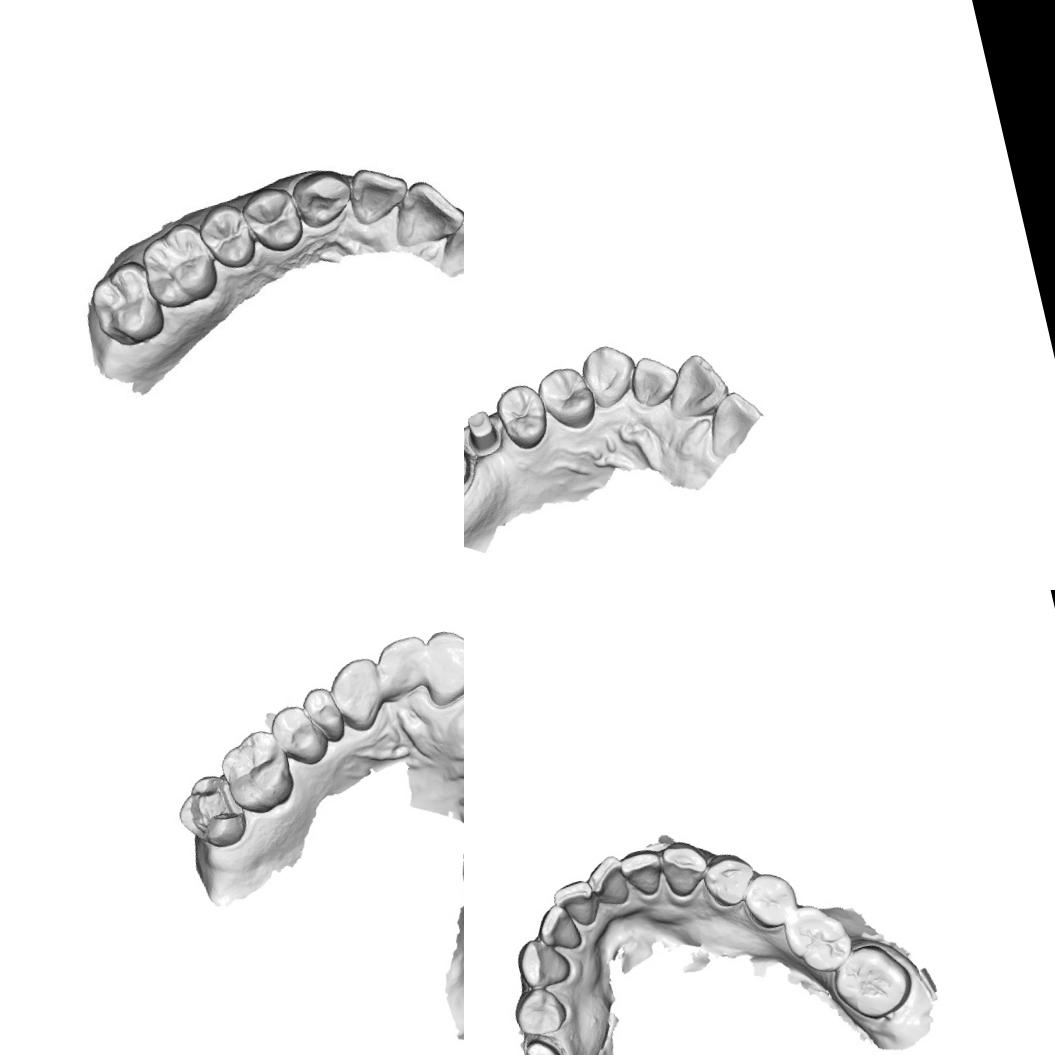abutment: (464, 405, 507, 460)
canine: (322, 652, 392, 740), (574, 339, 644, 414), (288, 163, 358, 232), (511, 931, 575, 993), (656, 835, 714, 901)
crown: (464, 434, 483, 507), (521, 1033, 568, 1055)
incisor: (382, 171, 464, 252), (658, 346, 734, 422), (698, 385, 772, 460), (343, 156, 417, 228), (371, 631, 434, 700), (415, 622, 464, 709), (622, 348, 686, 414), (532, 899, 586, 956), (581, 851, 632, 911), (549, 877, 602, 933), (617, 845, 668, 901), (431, 212, 464, 283)
molar: (212, 722, 302, 822), (824, 936, 920, 1028), (132, 216, 223, 313), (82, 256, 170, 355), (168, 766, 253, 857), (777, 894, 859, 981)
premolar: (238, 180, 310, 260), (534, 360, 601, 438), (266, 697, 334, 773), (488, 378, 554, 456), (195, 202, 260, 274), (738, 866, 804, 935), (697, 846, 762, 912), (508, 983, 570, 1041), (297, 680, 348, 748)
